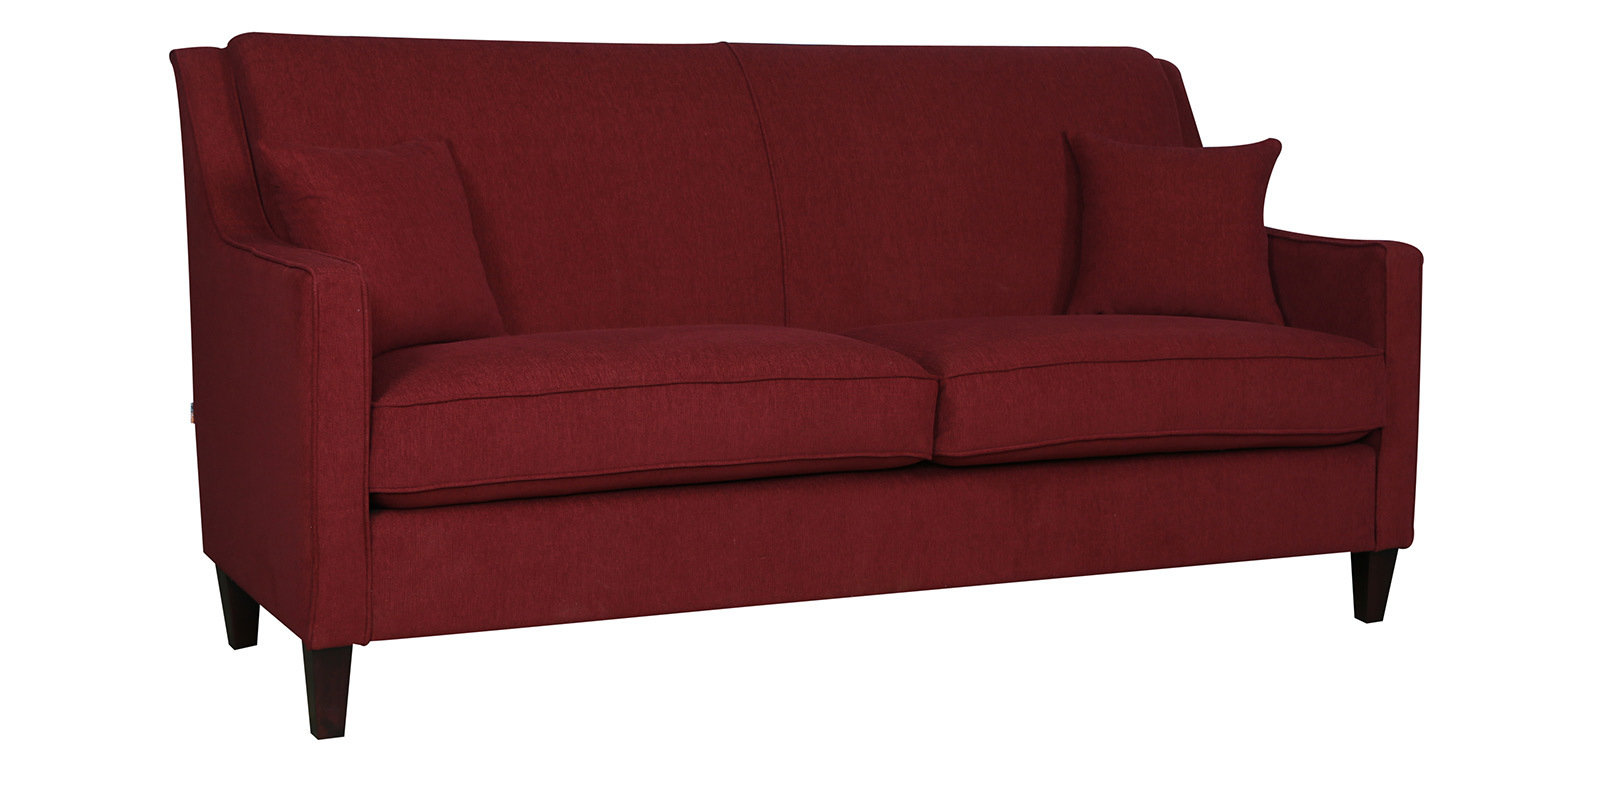Oscar Three Seater Sofa in Garnet Red Colour by CasaCraft: (164, 31, 1424, 741)
